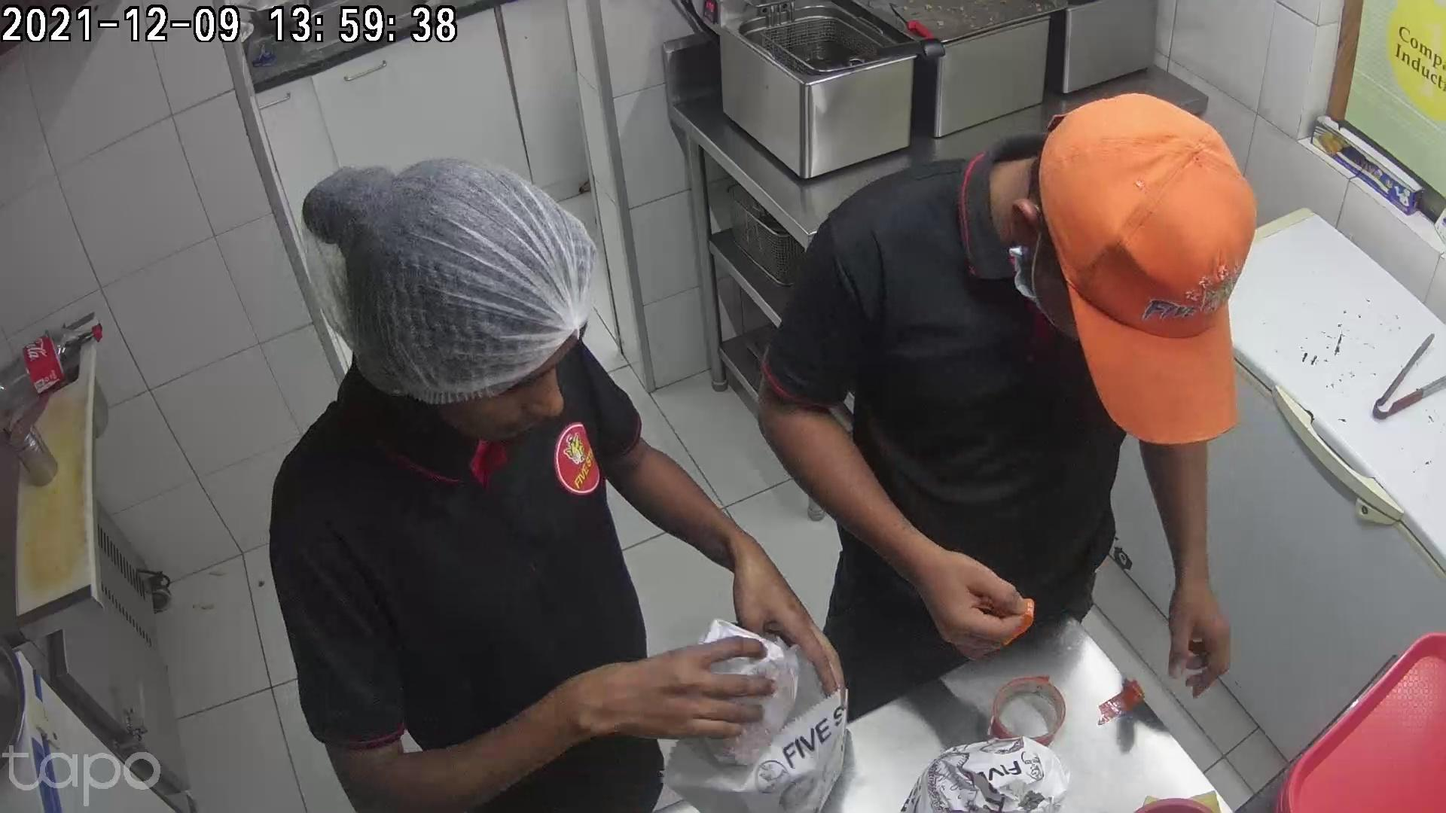no_gloves: (545, 638, 765, 739), (906, 556, 1023, 647), (1163, 564, 1225, 680)
